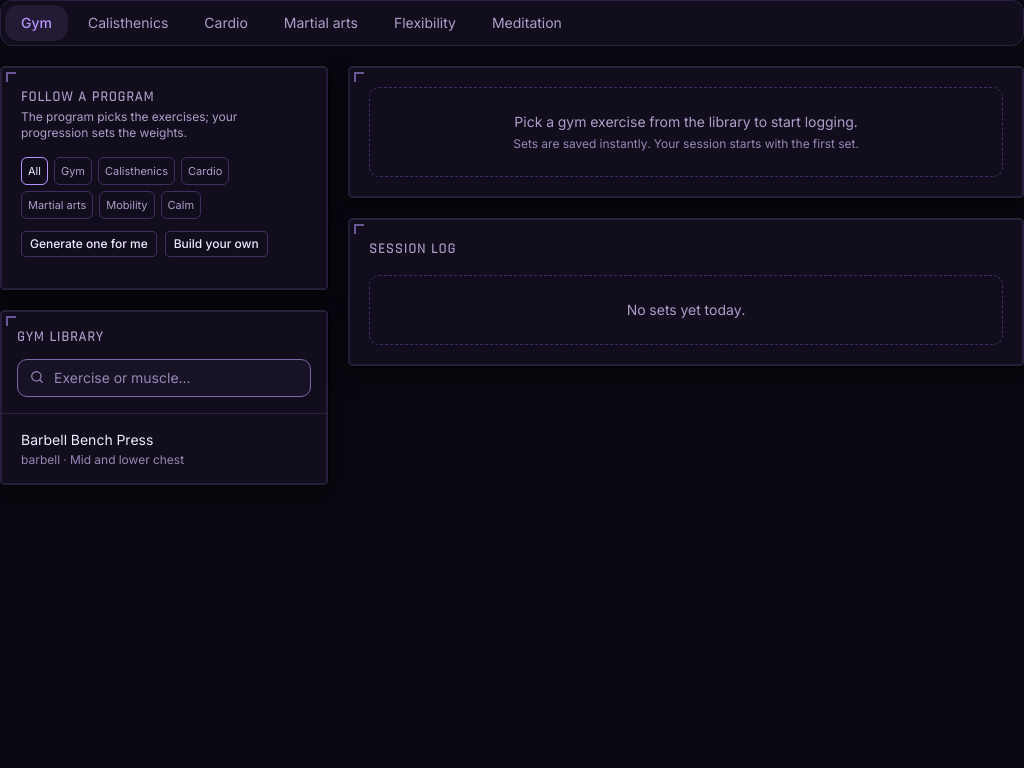
Test: Training page › animates a freshly logged lift: the row slides in with a check and +XP floats up
This screenshot has width=1024, height=768.
Step 1. Click the text "Barbell Bench Press" → (87, 440), box [21,431,153,448]
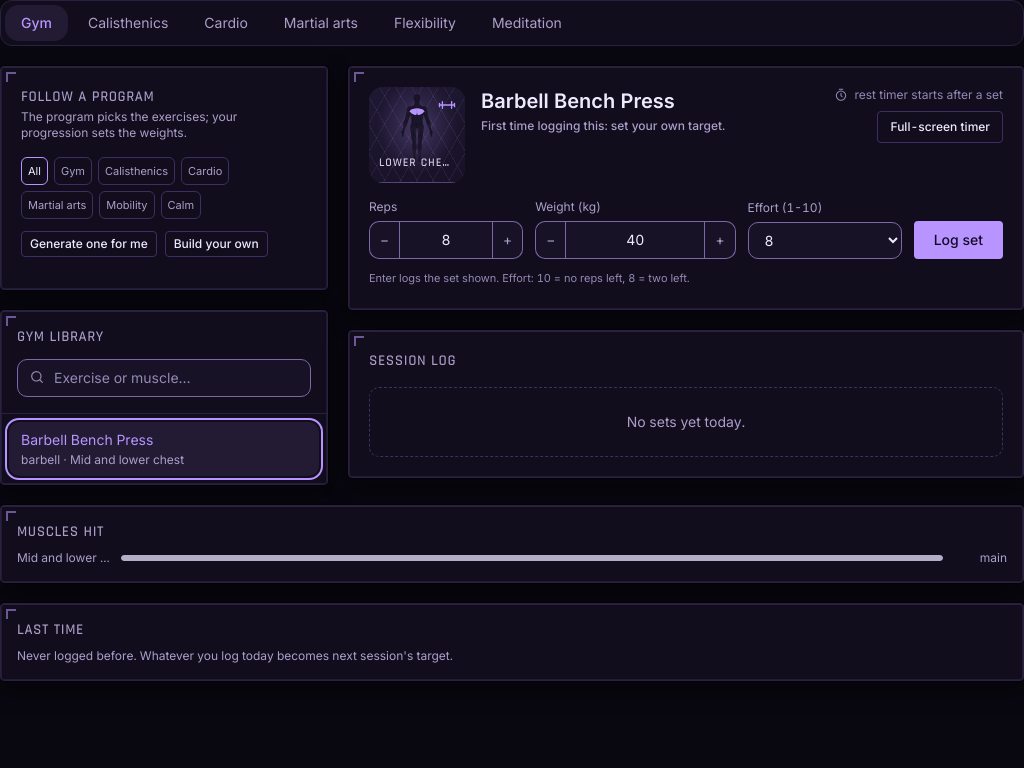
Step 2. Click the button "Log set" → (958, 240), box [914,221,1003,259]
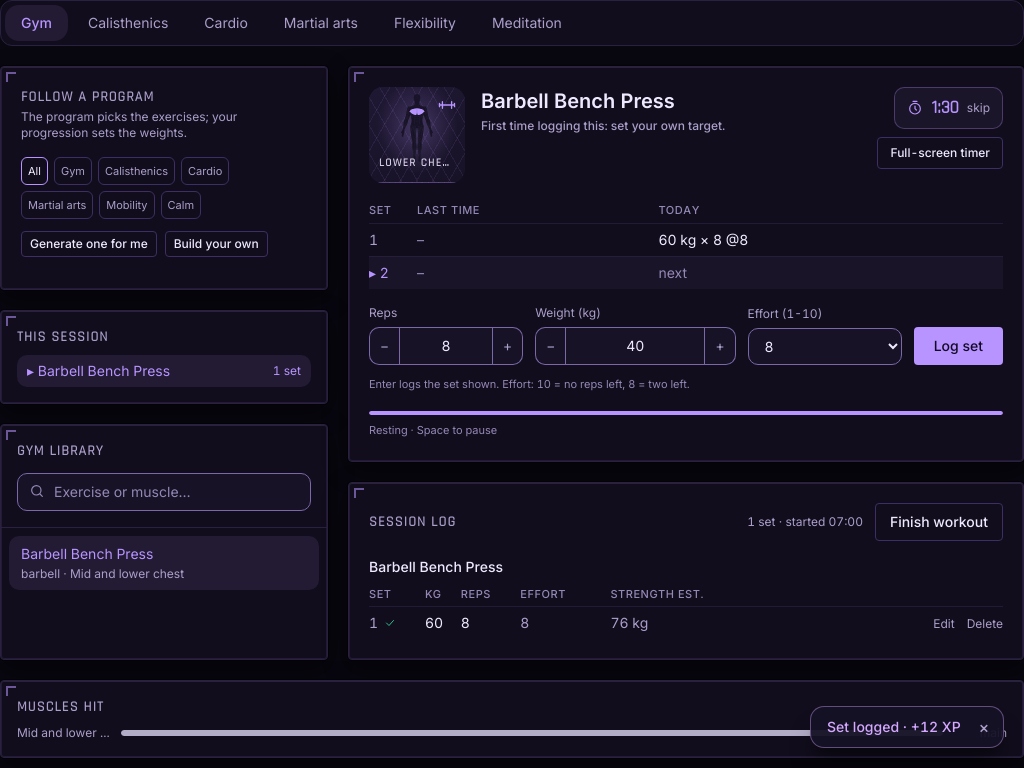
Now the text "1" is shown, box [369,613,396,633]
